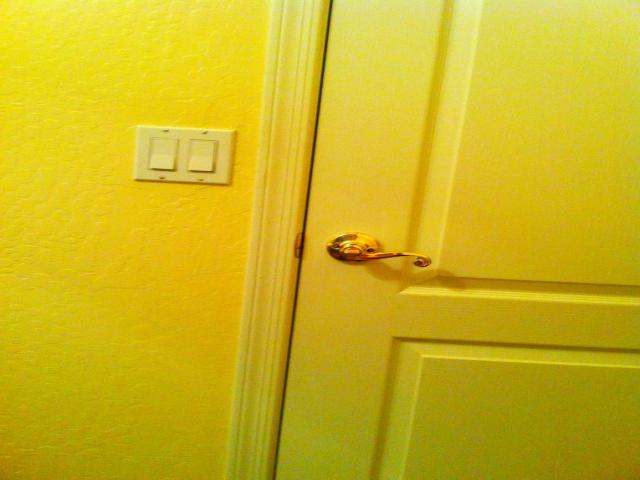Door-handle: (325, 232, 432, 269)
